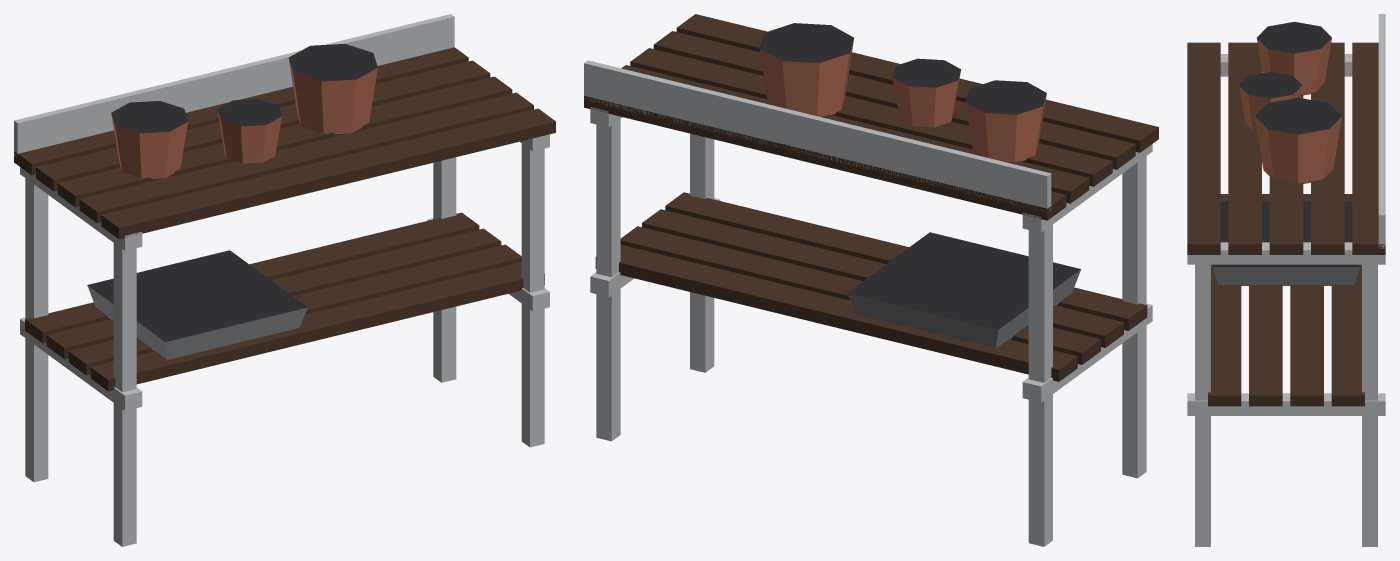
File: FN_Shelf_Garden.glb
3 views of the same model, side by side, from view 1: azimuth 30°, elevation 25°; view 2: azimuth 150°, elevation 25°; view 3: azimuth 270°, elevation 25° (orthographic). The views are drawn at different scales.
Visible parts, largest first — view 1: FN_Shelf_Garden; view 2: FN_Shelf_Garden; view 3: FN_Shelf_Garden.
Boxes of the visible parts, left/top/right/bottom form: FN_Shelf_Garden: left=14, top=14, right=555, bottom=546; FN_Shelf_Garden: left=584, top=14, right=1158, bottom=546; FN_Shelf_Garden: left=1187, top=14, right=1385, bottom=546.
Bounding box in the file's own units: 1.2 × 0.996 × 0.5.
1 material, 1 textured.
